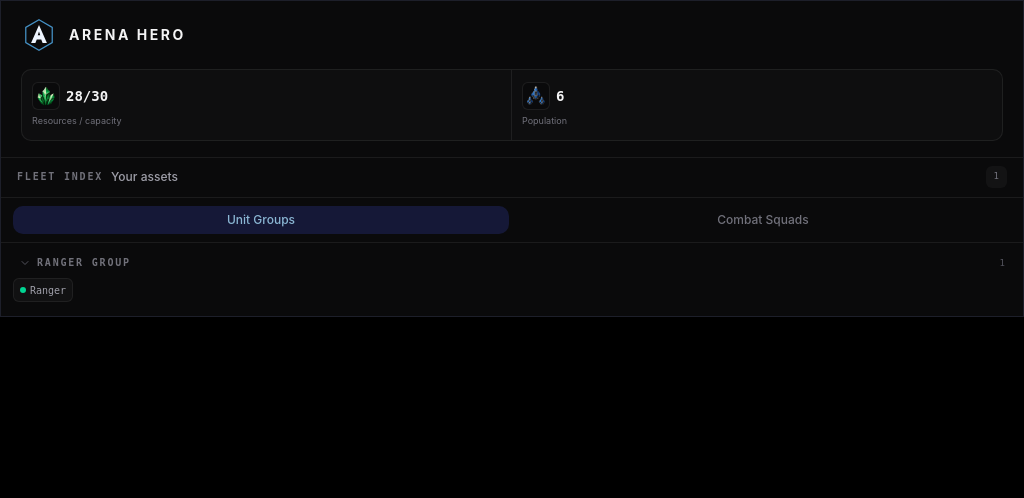
it: AssetList › fleet view tabs › drops unnamed combat units into the standby pool
This screenshot has width=1024, height=498.
Click the tab "Combat Squads".
click(763, 220)  # box [515,206,1011,234]
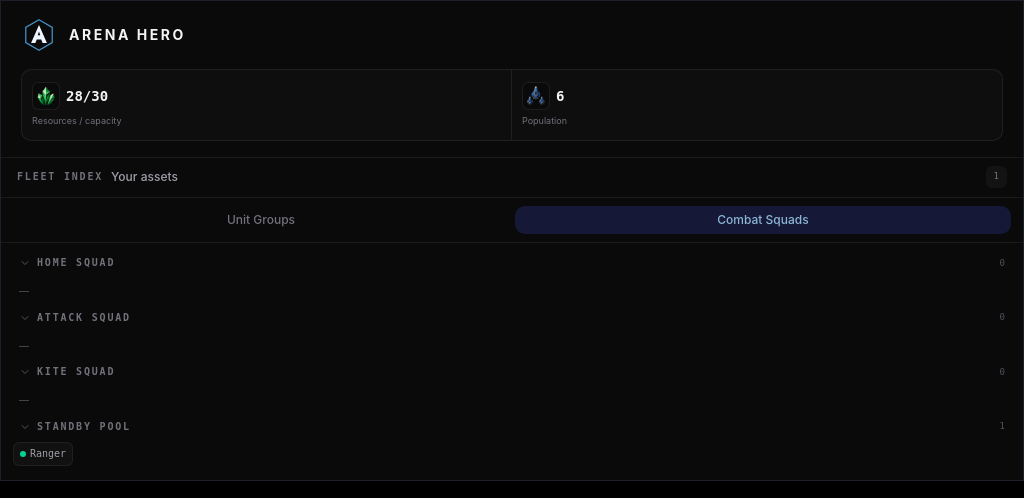
Check: the element "Standby Pool" shows "Ranger", box [13,442,73,466]
